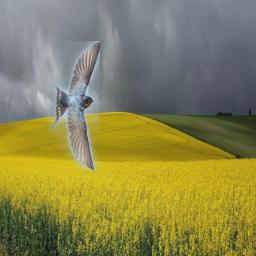Swallow: (48, 41, 100, 171)
